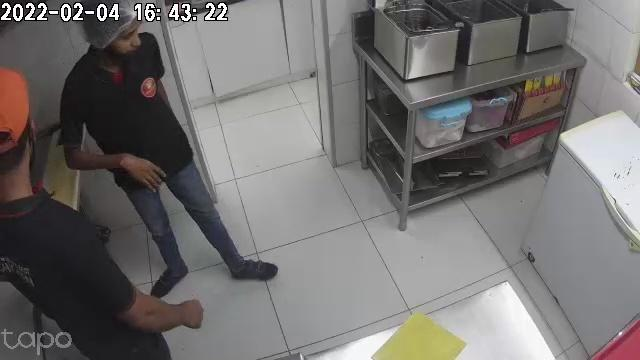no_gloves: (109, 153, 164, 191)
